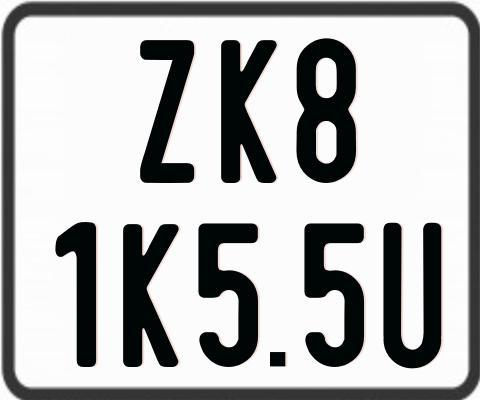1: (54, 220, 100, 371)
5: (195, 223, 258, 369), (303, 220, 365, 365)
8: (296, 35, 357, 181)
K: (219, 39, 277, 188), (122, 224, 181, 370)
U: (380, 222, 444, 369)
Z: (138, 39, 198, 185)
